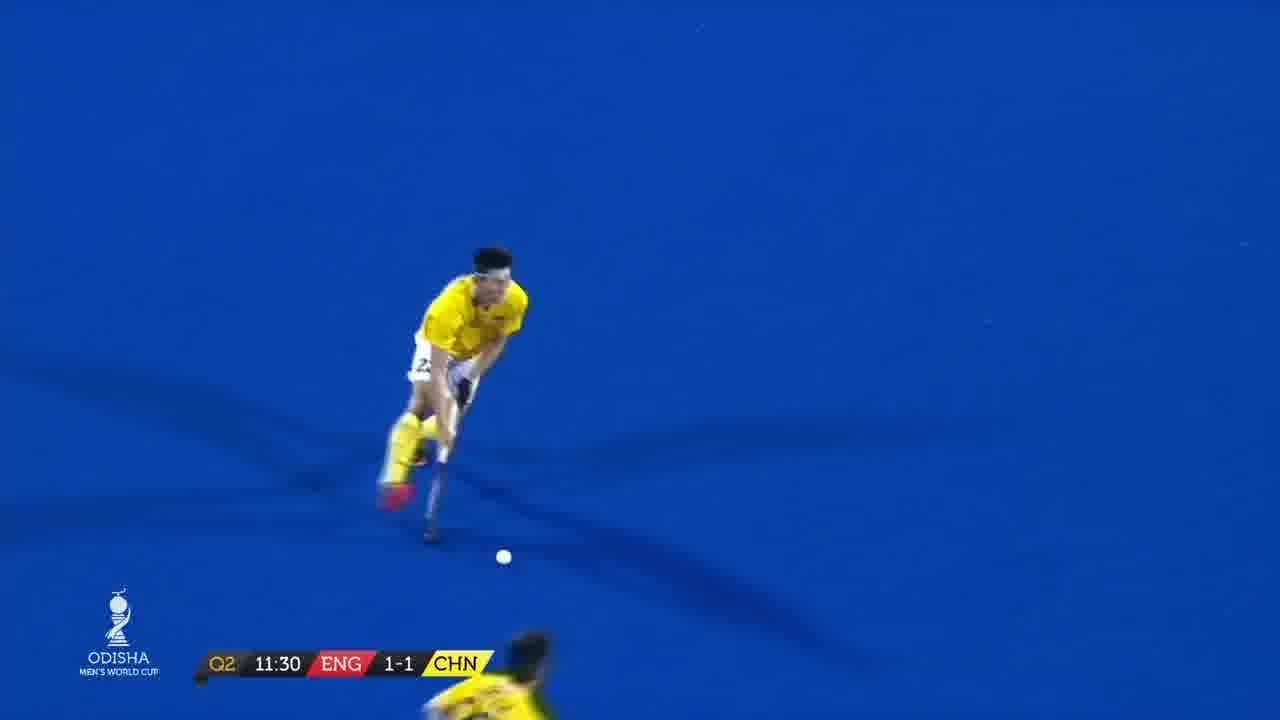ball: (492, 542, 522, 572)
